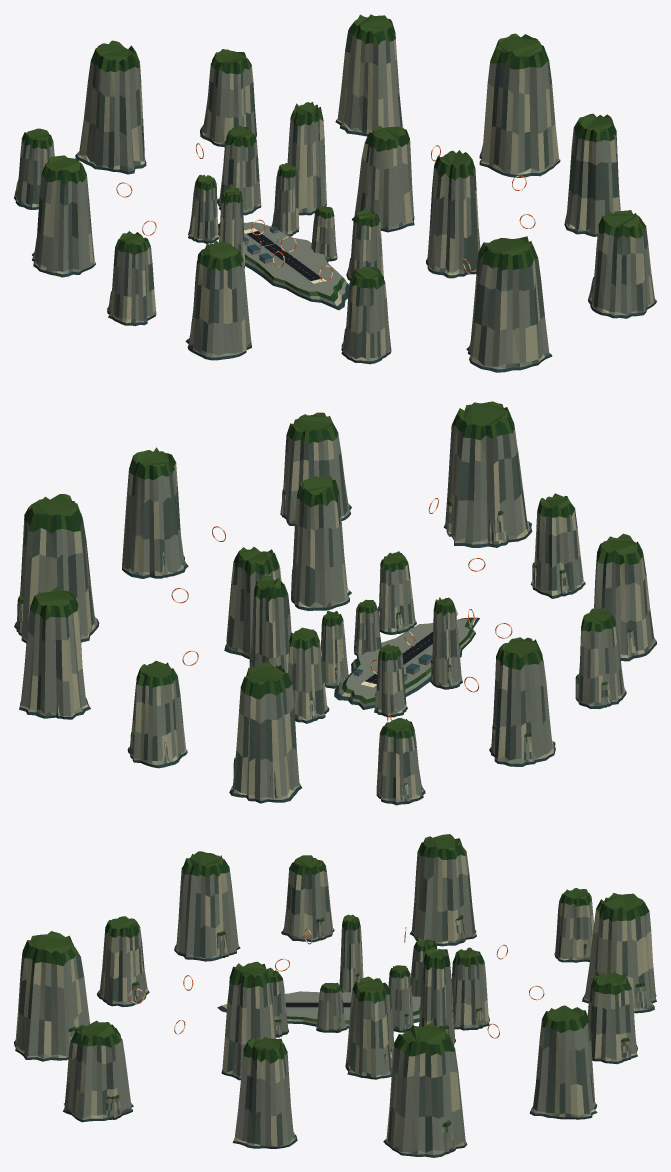
Rendered from karst_coast.obj.
3 renders of one model, top to bottom at view 1: azimuth 30°, elevation 25°; view 2: azimuth 150°, elevation 25°; view 3: azimuth 270°, elevation 25°, orthographic. The views are drawn at different scales.
Visible parts, largest first — view 1: Sea_karst_15, Sea_karst_18, Sea_karst_12, Sea_karst_14, Sea_karst_08, Sea_karst_10, Sea_karst_02, Sea_karst_17, Sea_karst_16, Sea_karst_03, Sea_karst_13, Airfield_island (+11 smaller); view 2: Sea_karst_18, Sea_karst_12, Sea_karst_14, Sea_karst_15, Sea_karst_16, Sea_karst_02, Sea_karst_10, Sea_karst_08, Sea_karst_13, Sea_karst_17, Sea_karst_19, Sea_karst_09 (+11 smaller); view 3: Sea_karst_15, Sea_karst_18, Sea_karst_14, Sea_karst_10, Sea_karst_16, Sea_karst_08, Sea_karst_12, Sea_karst_17, Sea_karst_03, Sea_karst_02, Sea_karst_13, Sea_karst_19 (+10 smaller).
Part boxes in pixels (x1,y1,x2,y2): Sea_karst_15: [479, 33, 560, 177]; Sea_karst_18: [466, 236, 552, 372]; Sea_karst_12: [75, 40, 146, 174]; Sea_karst_14: [335, 14, 403, 136]; Sea_karst_08: [185, 240, 251, 360]; Sea_karst_10: [32, 155, 95, 277]; Sea_karst_02: [426, 150, 480, 278]; Sea_karst_17: [588, 210, 656, 318]; Sea_karst_16: [564, 113, 620, 236]; Sea_karst_03: [352, 125, 414, 232]; Sea_karst_13: [200, 49, 256, 146]; Airfield_island: [218, 221, 349, 310]; Sea_karst_18: [443, 401, 532, 547]; Sea_karst_12: [229, 662, 301, 803]; Sea_karst_14: [19, 586, 90, 719]; Sea_karst_15: [14, 494, 99, 642]; Sea_karst_16: [122, 447, 188, 578]; Sea_karst_02: [291, 476, 351, 610]; Sea_karst_10: [489, 637, 555, 766]; Sea_karst_08: [594, 533, 656, 661]; Sea_karst_13: [127, 661, 187, 768]; Sea_karst_17: [280, 412, 351, 525]; Sea_karst_19: [531, 493, 585, 598]; Sea_karst_09: [578, 608, 626, 708]; Sea_karst_15: [383, 1023, 467, 1157]; Sea_karst_18: [14, 931, 89, 1061]; Sea_karst_14: [529, 1005, 597, 1119]; Sea_karst_10: [410, 834, 476, 946]; Sea_karst_16: [232, 1037, 297, 1148]; Sea_karst_08: [174, 851, 240, 961]; Sea_karst_12: [582, 893, 656, 1013]; Sea_karst_17: [63, 1020, 133, 1122]; Sea_karst_03: [345, 976, 394, 1079]; Sea_karst_02: [221, 961, 275, 1080]; Sea_karst_13: [587, 972, 637, 1064]; Sea_karst_19: [97, 916, 149, 1006].
Size of the model in its own units: 1467 by 321 by 1689.
